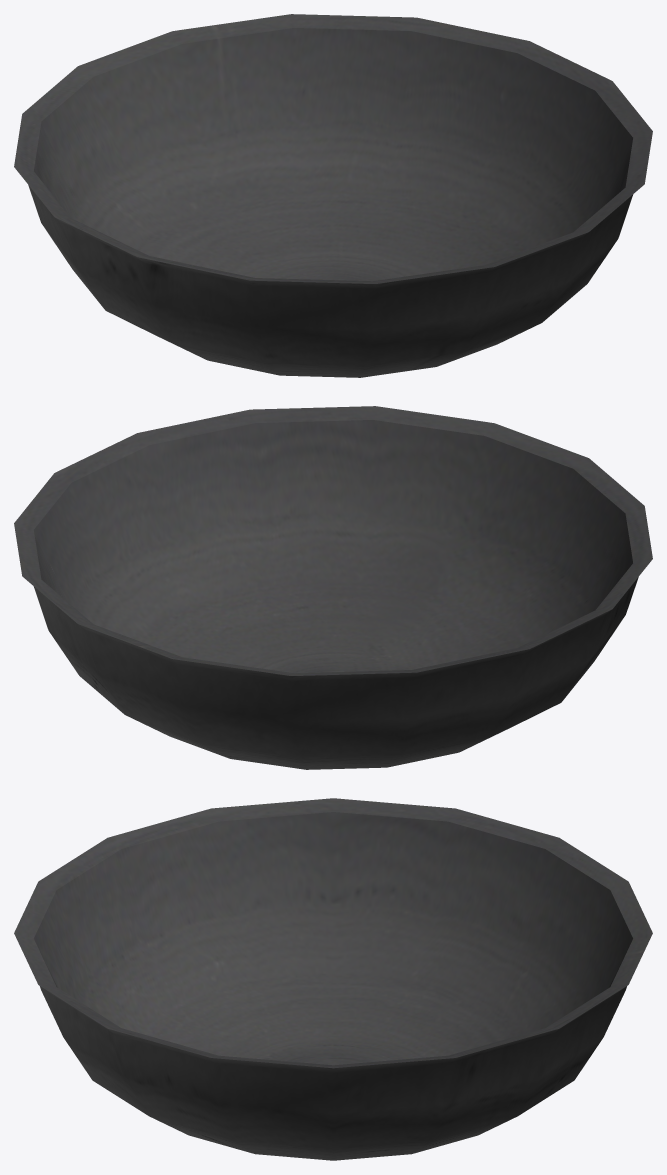
The model's file is bowl-7.FBX.
3 renders of one model, top to bottom at view 1: azimuth 30°, elevation 25°; view 2: azimuth 150°, elevation 25°; view 3: azimuth 270°, elevation 25°, orthographic.
Visible parts, largest first — view 1: bowl-7_LOD0; view 2: bowl-7_LOD0; view 3: bowl-7_LOD0.
Part boxes in pixels (x1,y1,x2,y2): bowl-7_LOD0: (14, 14, 652, 377); bowl-7_LOD0: (14, 406, 652, 769); bowl-7_LOD0: (14, 798, 652, 1160).
Size of what is drawn, in the model's own units: 20.45 by 5.95 by 20.45.
